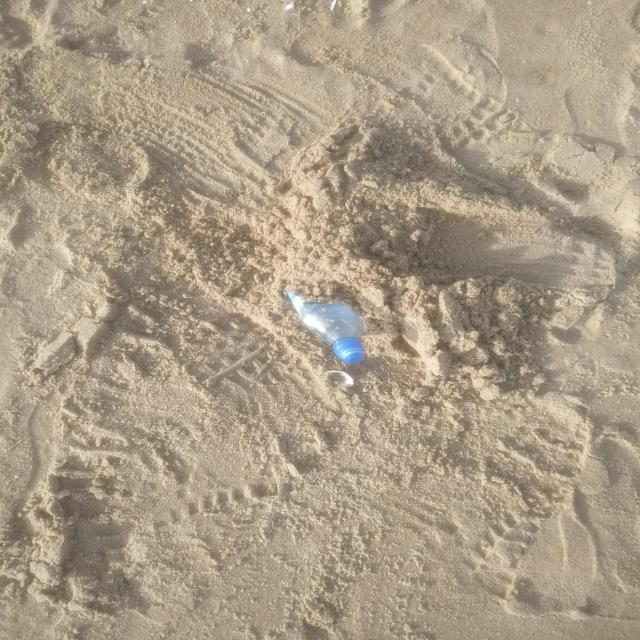litter: (285, 290, 364, 345), (333, 339, 364, 364)
